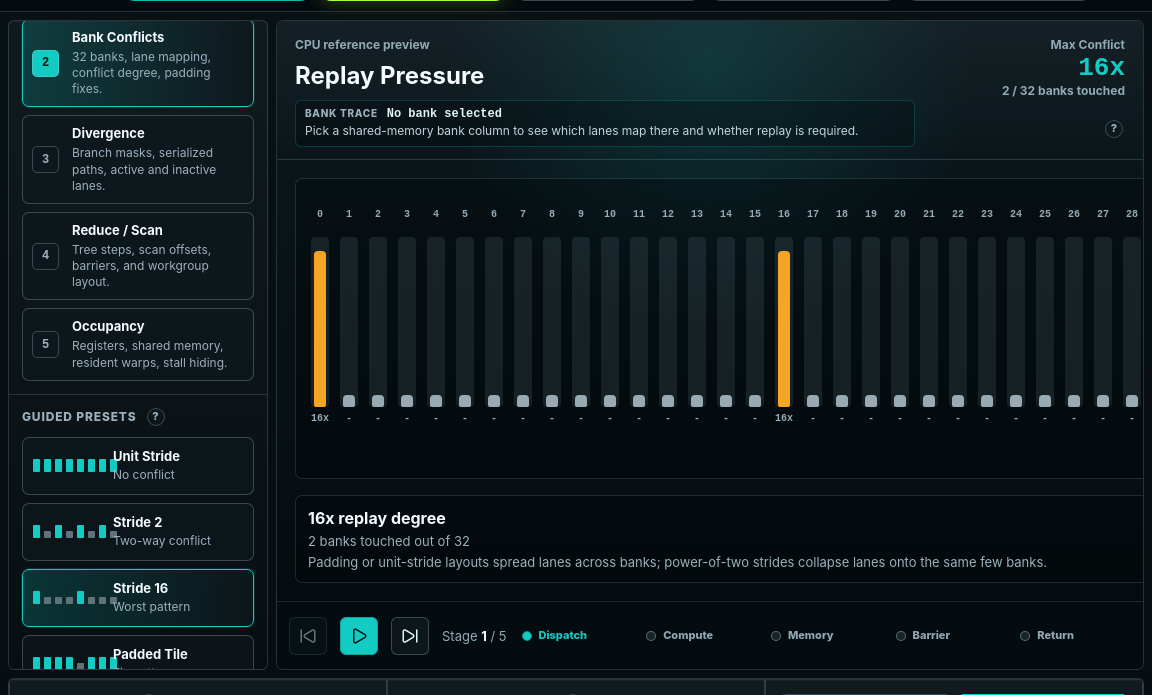
Scenario: Collide 1.0 workbench shell › keeps the central canvas meaningful for occupancy
This screenshot has width=1152, height=695.
(page scrolled)
Click the button "Occupancy".
click(138, 345)  # box top-left (22, 308), bottom-right (254, 381)
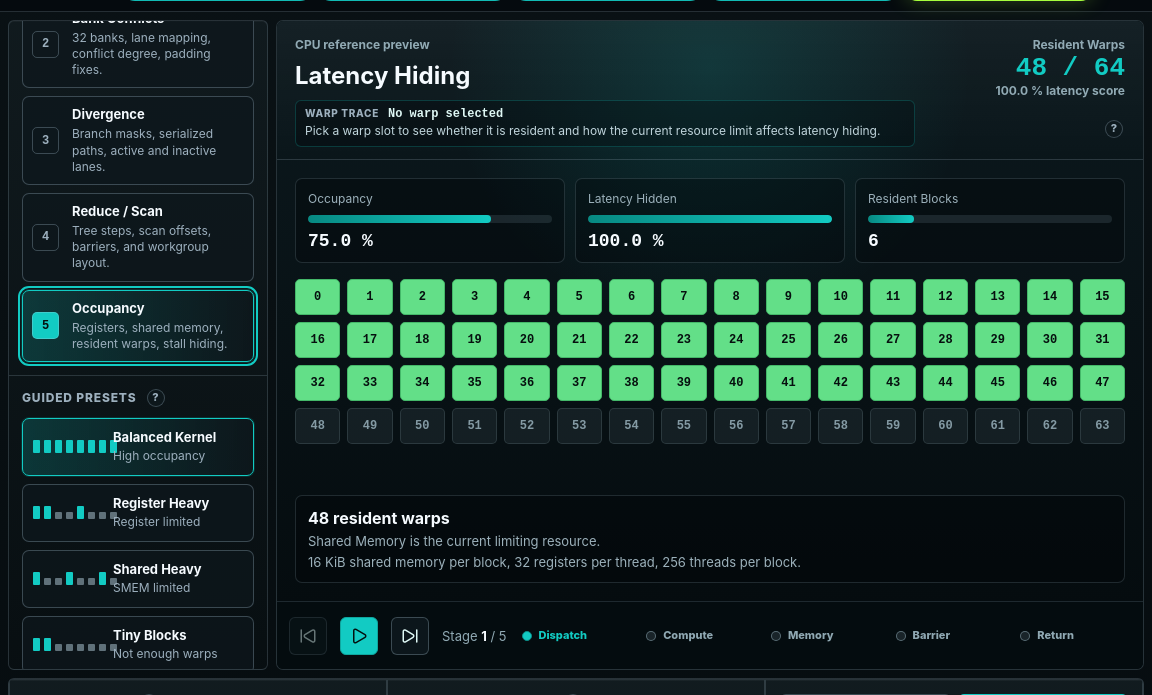
Check: the heading "Latency Hiding" is shown, box top-left (295, 61), bottom-right (470, 90)
Check: the text "Resident Warps" is shown, box top-left (1033, 37), bottom-right (1125, 53)
